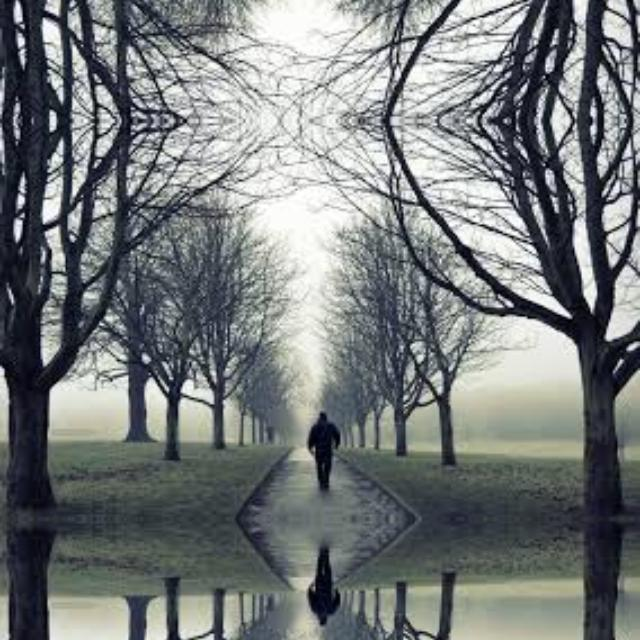person: (298, 409, 344, 491), (298, 547, 344, 629)
